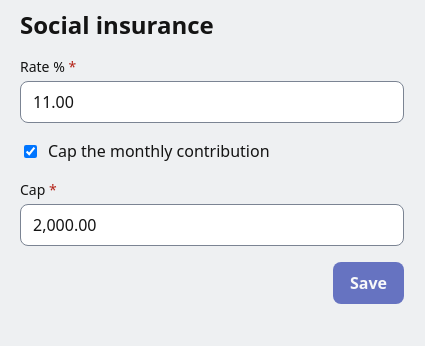
Test: Social insurance page - rate validation › shows the schema message for a rate above 100 and does not save
This screenshot has width=425, height=346.
Replace the text in the field labelled "Rate % *" with "101" at (212, 102), box [20,81,404,123]
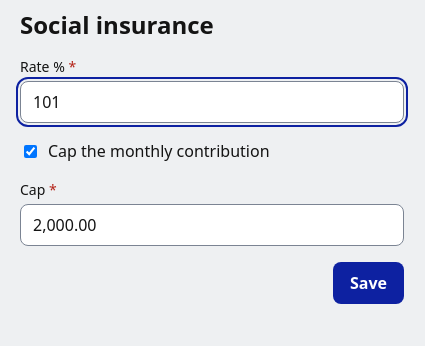
Click the button "Save" at (368, 283), box [333,262,404,304]
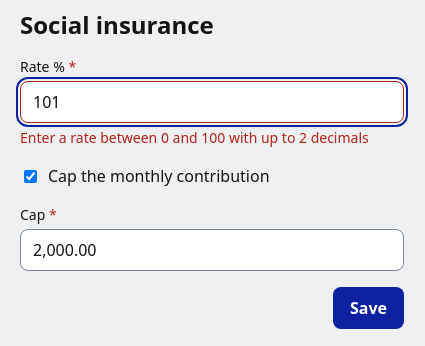
Result: the text "Enter a rate between 0 and 100 with up to 2 decimals" is shown at [20,127,404,148]
